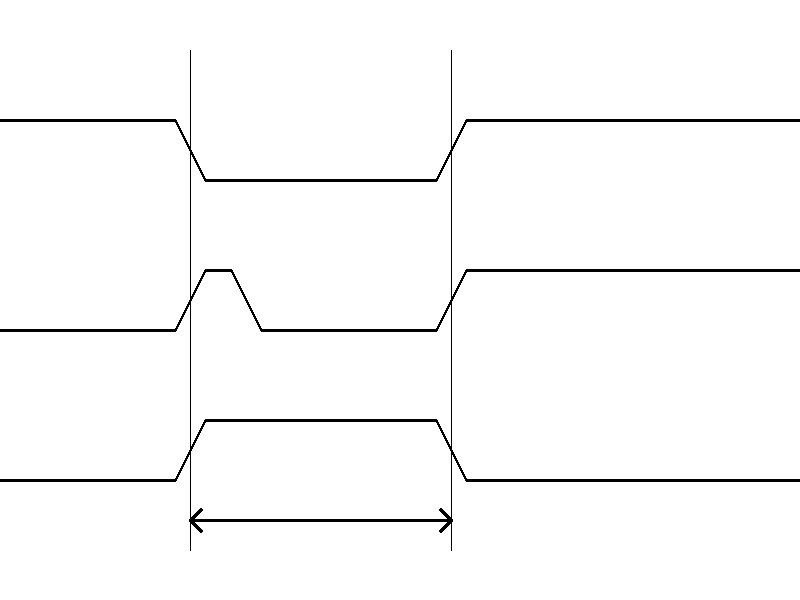double_arrow: (190, 505, 451, 535)
